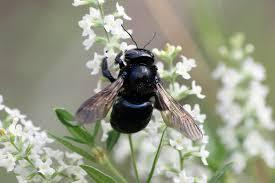Xylocopa: (67, 25, 209, 144)
